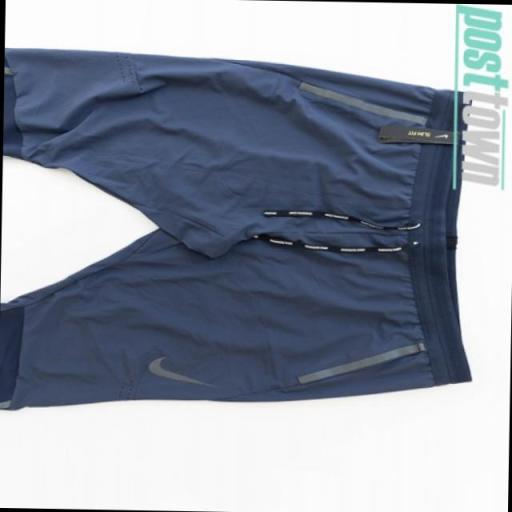Nike: (142, 354, 220, 389)
